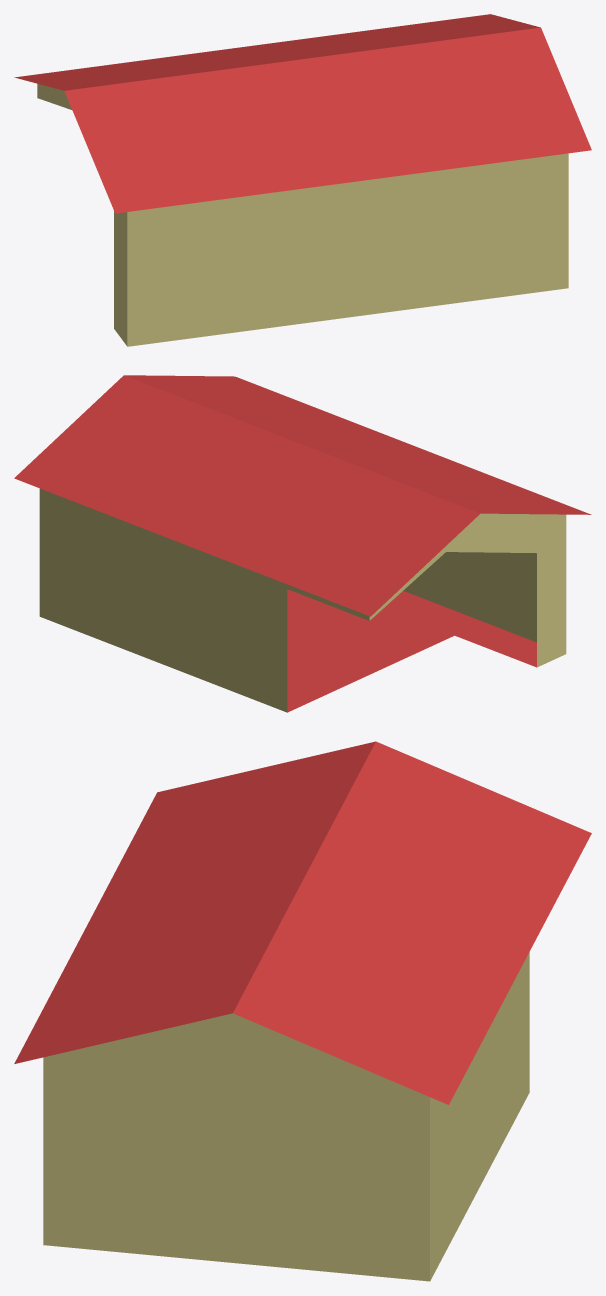
3 renders of one model, top to bottom at view 1: azimuth 30°, elevation 25°; view 2: azimuth 150°, elevation 25°; view 3: azimuth 270°, elevation 25°, orthographic. The views are drawn at different scales.
Bounding box in the file's own units: 30.1 × 23.51 × 11.68.
